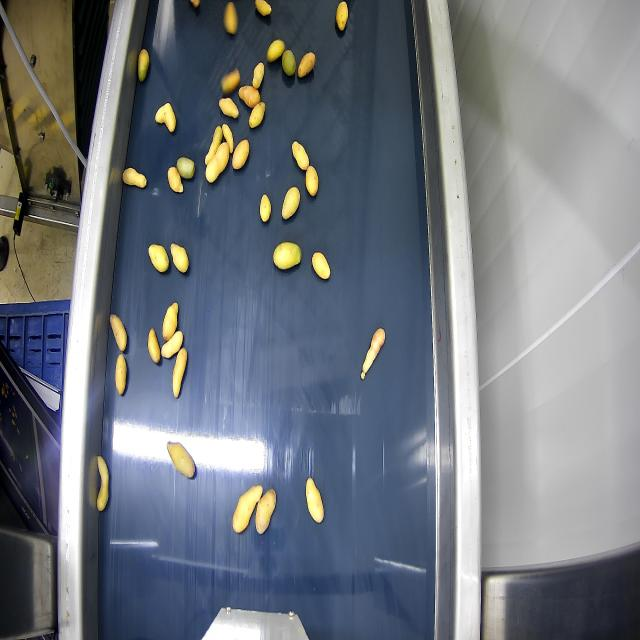Baby Potato: (232, 486, 262, 533), (360, 328, 386, 380), (167, 442, 195, 478), (206, 142, 229, 183), (255, 489, 275, 535), (306, 478, 323, 523), (274, 242, 301, 270), (172, 348, 187, 398), (205, 126, 223, 166), (97, 455, 109, 512), (110, 314, 127, 351), (161, 330, 182, 359), (162, 303, 178, 341), (155, 103, 175, 132), (282, 187, 300, 219), (148, 245, 168, 272), (170, 244, 188, 273), (232, 139, 249, 169), (223, 2, 238, 35), (312, 252, 330, 279), (292, 142, 309, 170), (221, 69, 240, 94), (239, 86, 260, 108), (123, 168, 146, 188), (115, 354, 126, 395), (298, 52, 315, 78), (148, 328, 160, 363), (219, 97, 239, 118), (249, 102, 265, 128), (305, 165, 318, 196), (267, 40, 285, 62), (176, 157, 194, 179), (168, 167, 183, 192), (282, 50, 296, 76), (138, 49, 149, 82), (336, 1, 348, 31), (260, 194, 272, 222), (252, 62, 264, 89), (222, 124, 233, 152), (255, 0, 271, 16), (190, 0, 199, 7)
